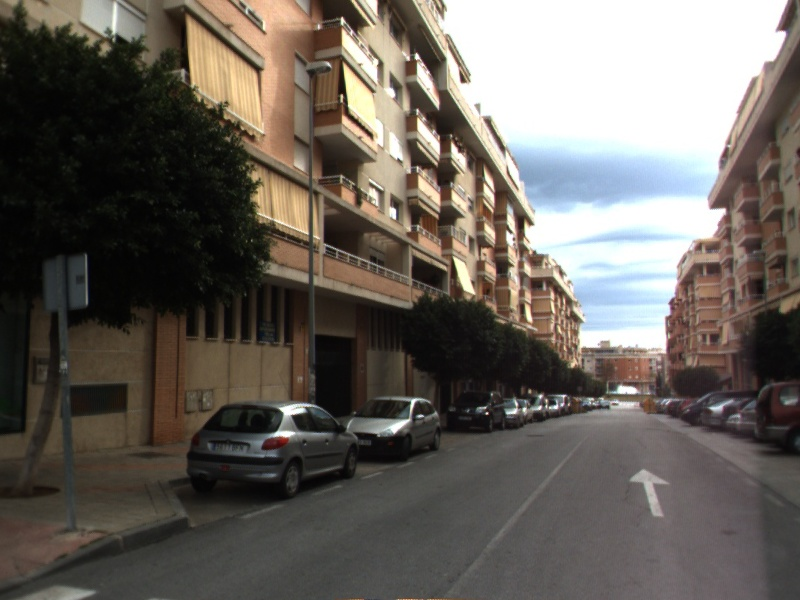STRAIGHT: (626, 466, 673, 519)
